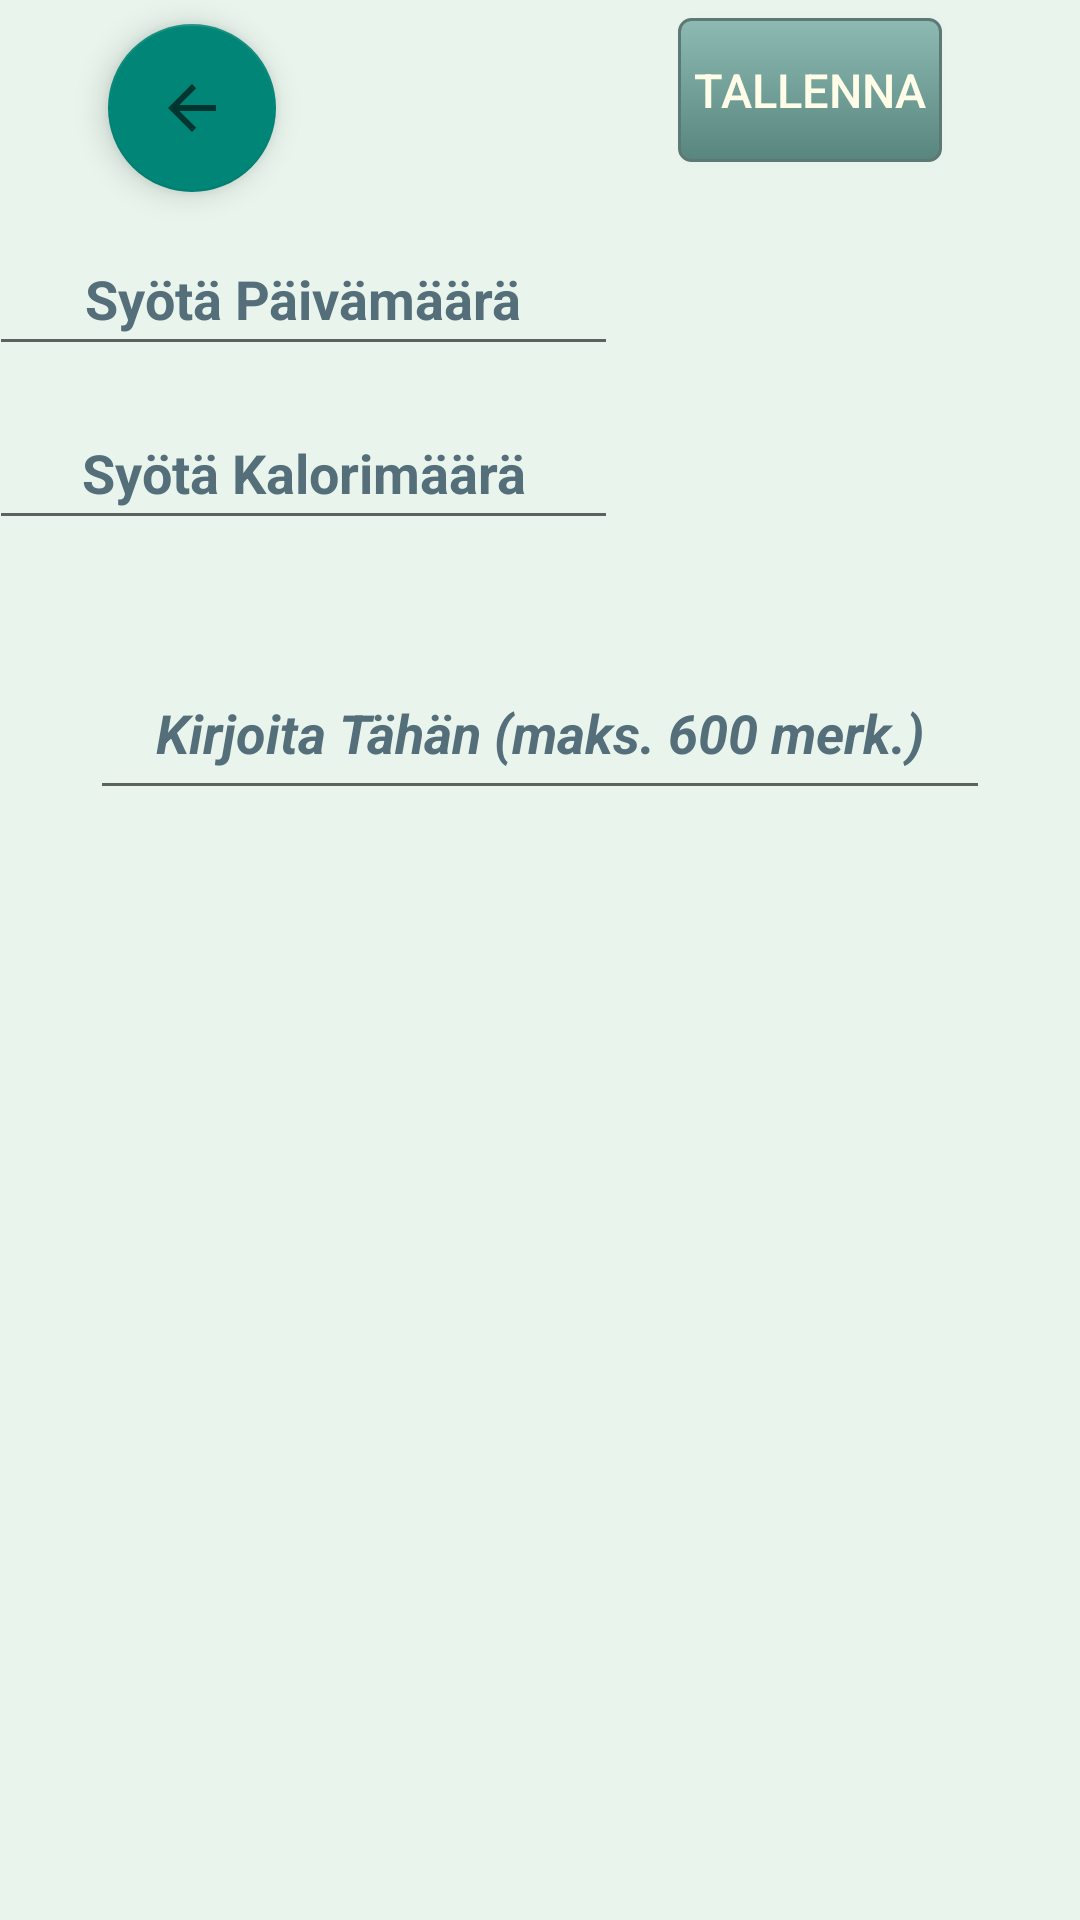

Screen size 1080*1920. Icon name, then its center in pixels as point (x, y):
Nappi, joka vie takaisin viime aktiviteettiin: point (192, 108)
